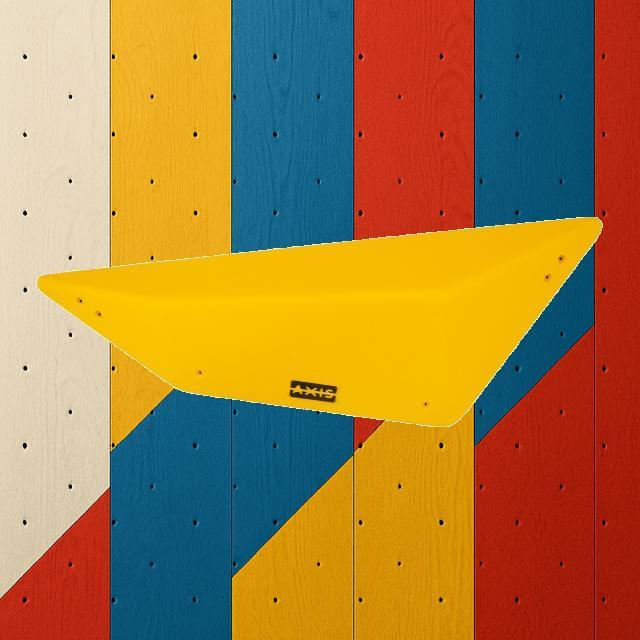Volume: (35, 217, 603, 427)
